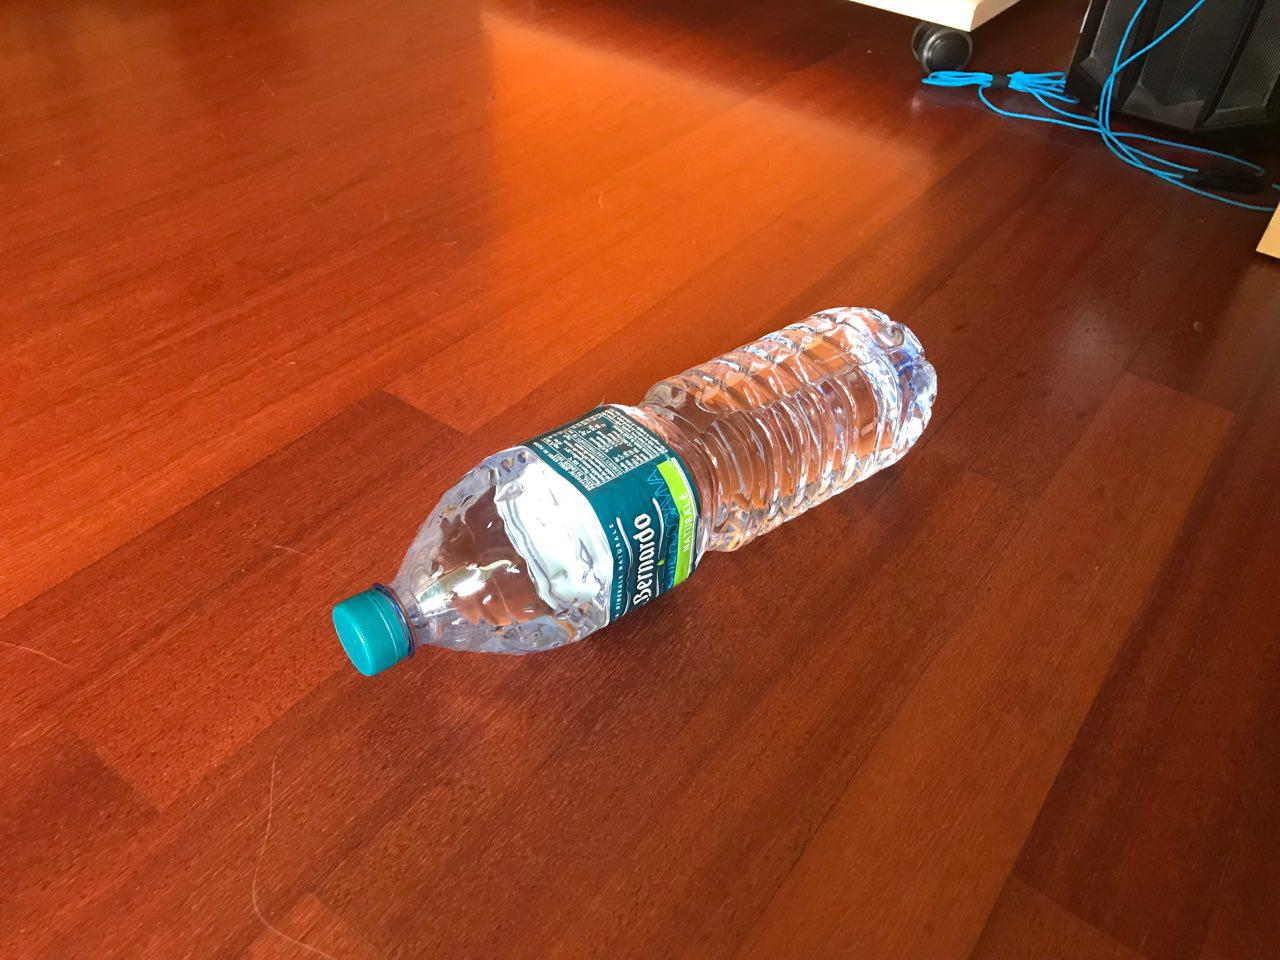san_bernardo: (329, 304, 941, 680)
